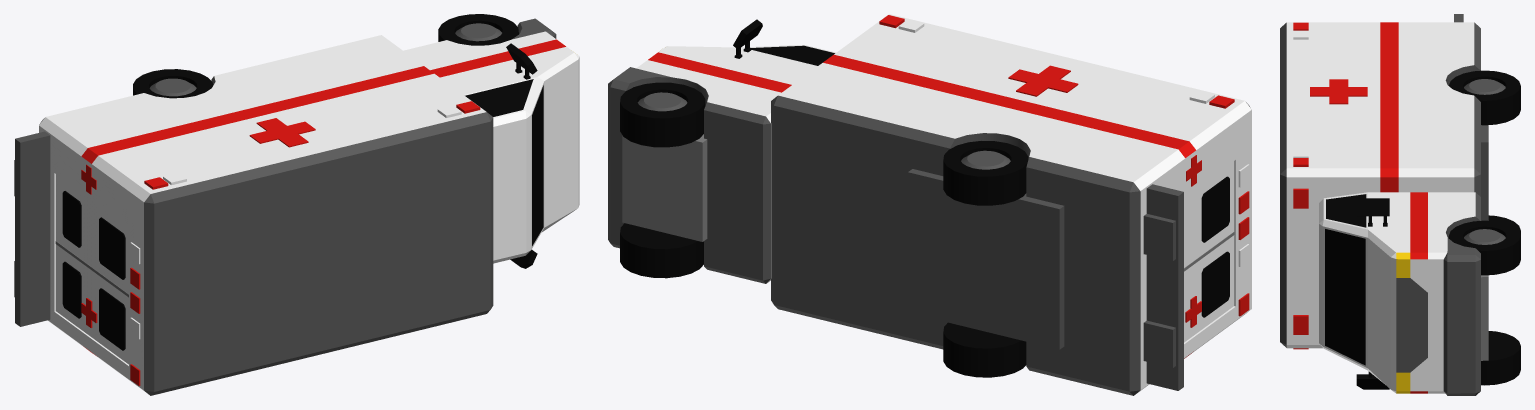
File: Ambulance.obj
3 views of the same model, side by side, from view 1: azimuth 30°, elevation 25°; view 2: azimuth 150°, elevation 25°; view 3: azimuth 270°, elevation 25° (orthographic). The views are drawn at different scales.
Parts seen in each view (by area): view 1: polySurface4; view 2: polySurface4; view 3: polySurface4.
Part boxes in pixels (x1=…): polySurface4: x1=14, y1=14, x2=579, y2=395; polySurface4: x1=608, y1=14, x2=1251, y2=395; polySurface4: x1=1280, y1=14, x2=1520, y2=395.
Bounding box in the file's own units: 706 × 272 × 311.
